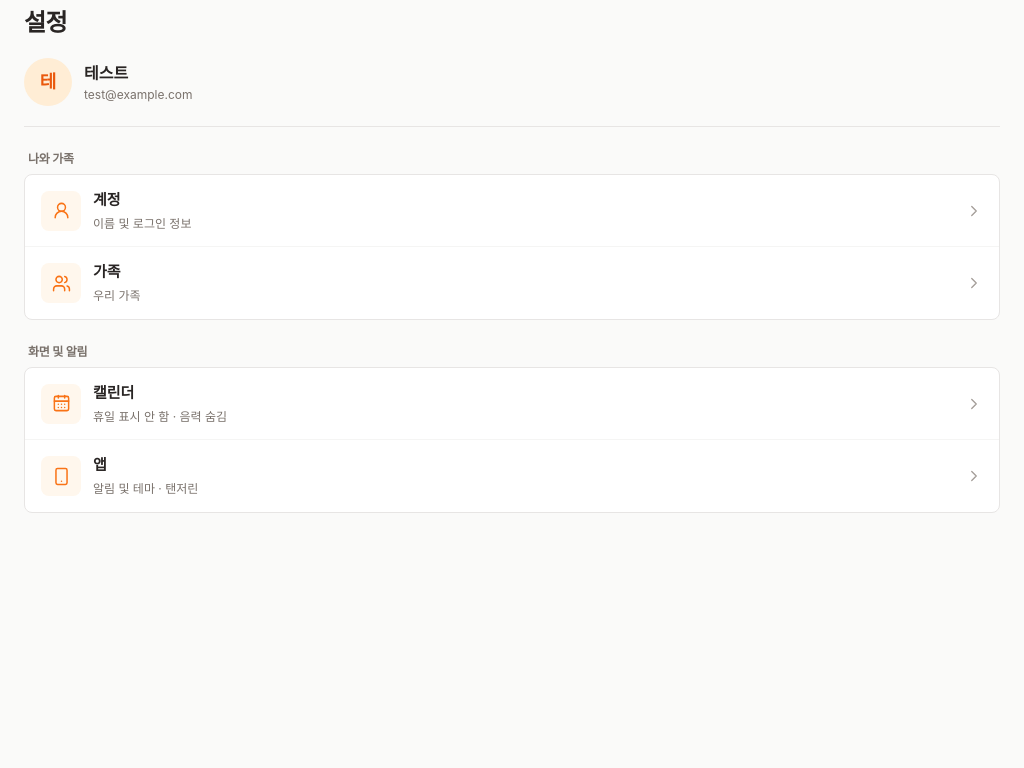
Test: SettingsTab 앱 서브뷰 — 알림 › 권한이 granted일 때 실제 구독을 동기화하고 연결 상태를 표시한다
The width and height of the screenshot is (1024, 768).
Click the button "앱 알림 및 테마 · 탠저린" at (61, 476), box [25,440,999,512]
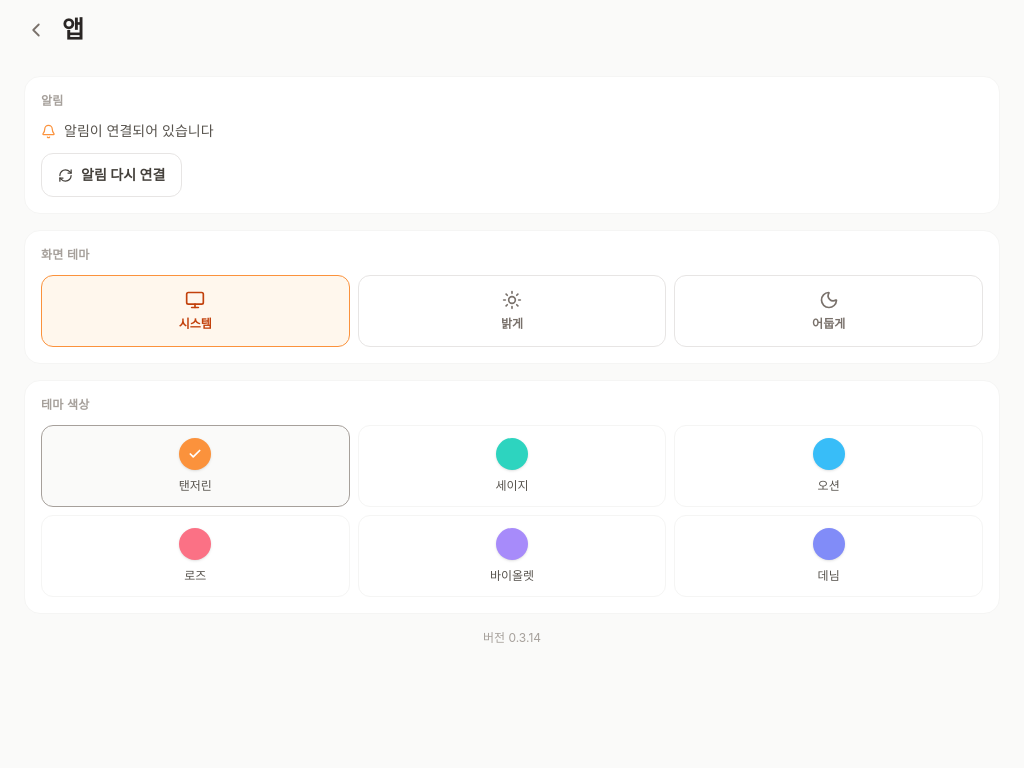
Now the text "알림이 연결되어 있습니다" is shown, box [41,122,214,139]
Now the button "알림 다시 연결" is shown, box [41,153,182,197]
